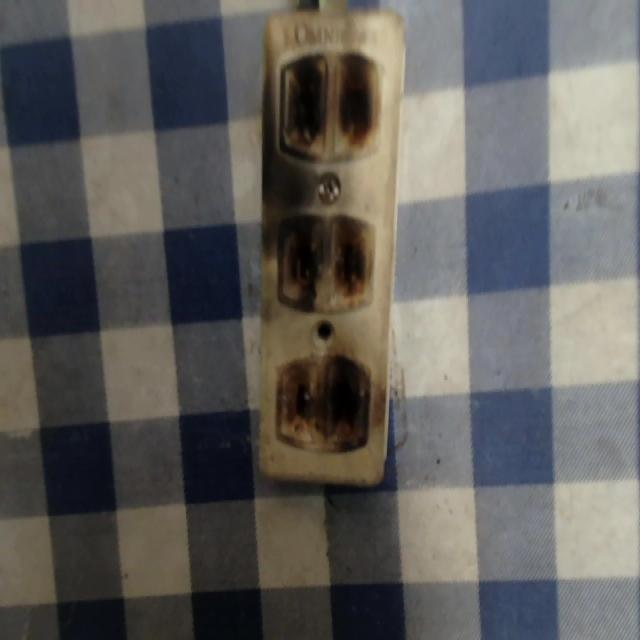-: (276, 44, 380, 163), (275, 207, 377, 312), (271, 348, 371, 452)
